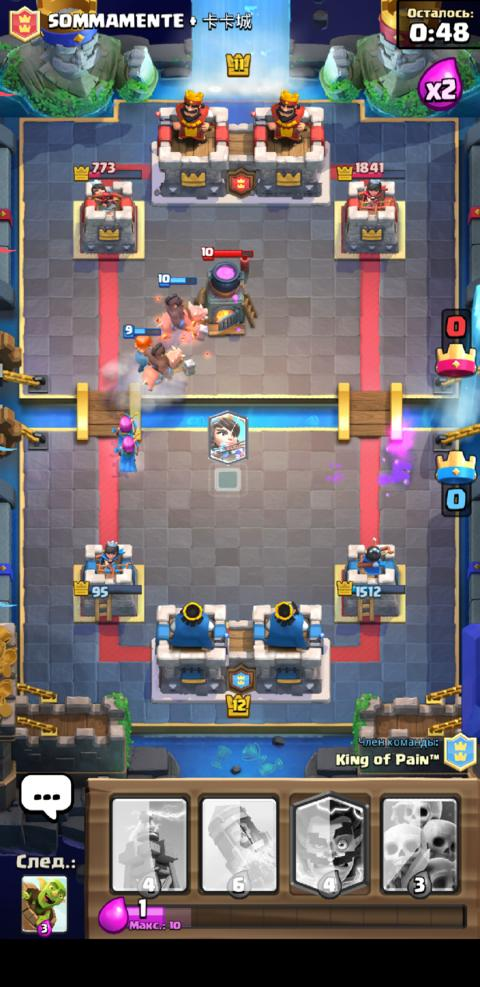ally_archer: (111, 433, 140, 473), (110, 409, 139, 436)
ally_hog_rider: (156, 271, 208, 337), (139, 340, 196, 392)
ally_valkyrie: (121, 323, 162, 373)
enemy_furnace: (191, 244, 259, 337)
